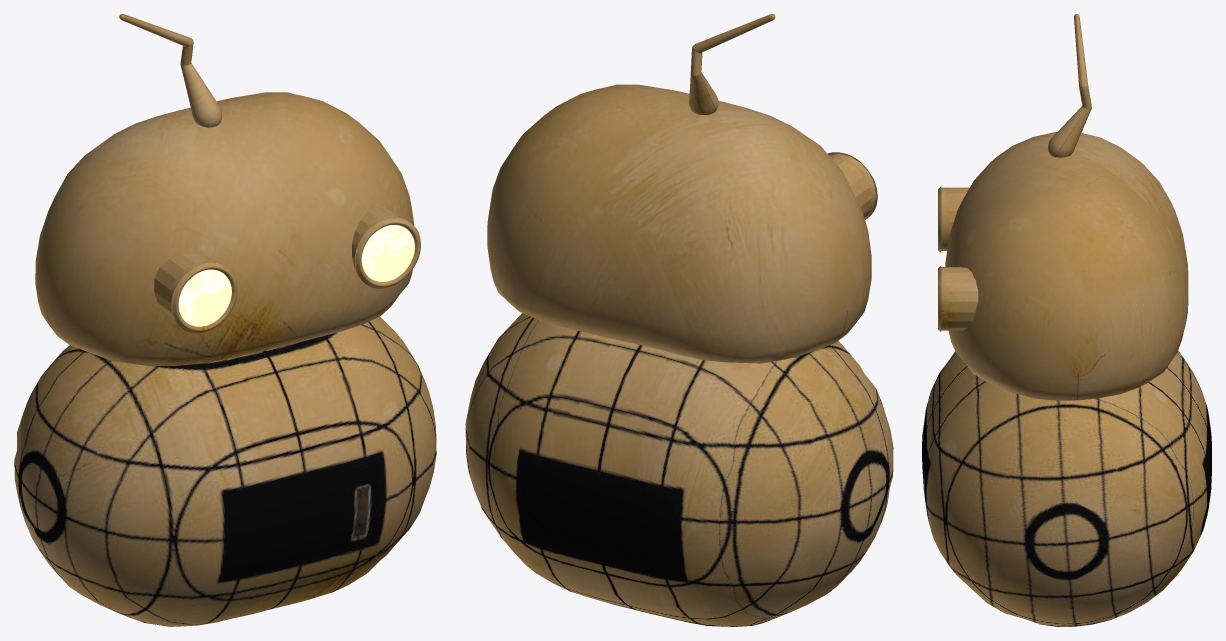
File: sample.glb
The picture shows the model from 3 angles, left to right: view 1: azimuth 30°, elevation 25°; view 2: azimuth 150°, elevation 25°; view 3: azimuth 270°, elevation 25°; orthographic projection. The views are drawn at different scales.
Visible parts, largest first — view 1: Mesh_0, Mesh_3, Mesh_2, Mesh_1; view 2: Mesh_0, Mesh_3; view 3: Mesh_0, Mesh_3.
Part boxes in pixels (bbox=[...]): Mesh_0: bbox=[14, 92, 436, 626]; Mesh_3: bbox=[119, 14, 222, 127]; Mesh_2: bbox=[354, 217, 420, 288]; Mesh_1: bbox=[171, 262, 237, 333]; Mesh_0: bbox=[465, 84, 893, 626]; Mesh_3: bbox=[689, 14, 775, 114]; Mesh_0: bbox=[922, 132, 1211, 626]; Mesh_3: bbox=[1048, 14, 1091, 157].
Size of the model in its own units: 20.16 by 30.83 by 15.07.
1 material, 1 textured.
